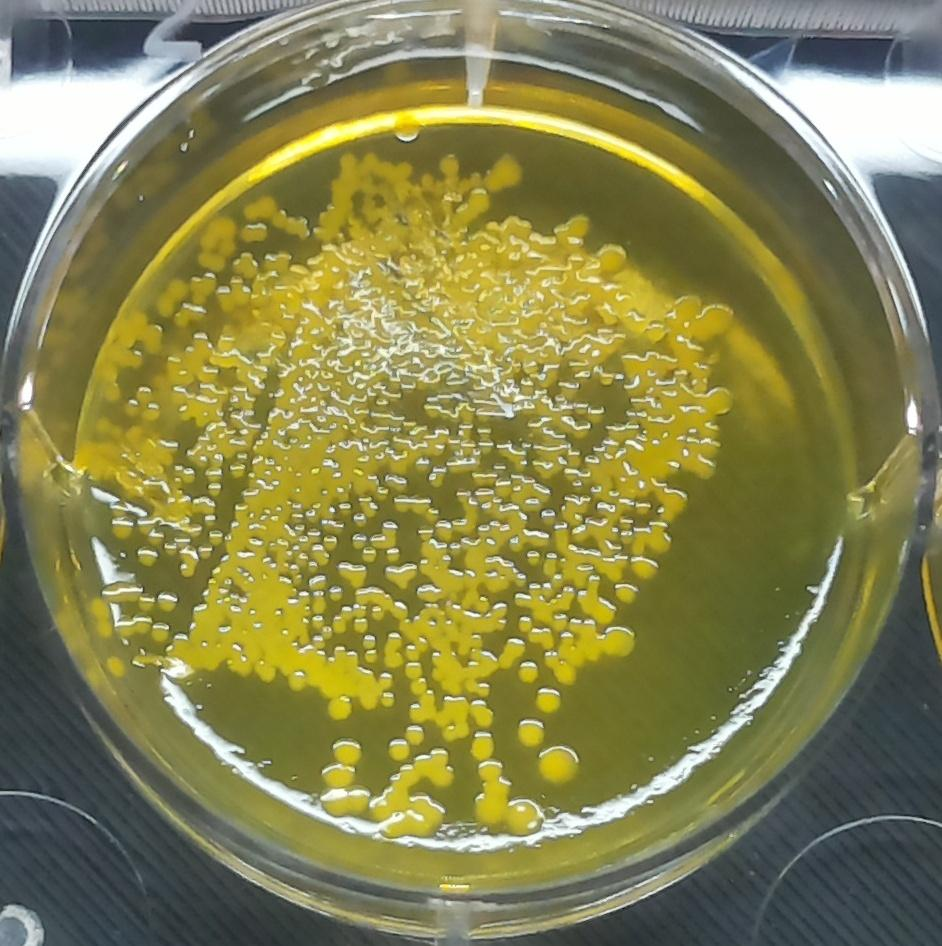vharveyi: (535, 738, 587, 792), (482, 149, 532, 194), (511, 709, 549, 754), (122, 382, 163, 423), (241, 189, 278, 224), (328, 735, 366, 768), (184, 269, 219, 304), (325, 690, 357, 724), (235, 221, 269, 245), (385, 733, 413, 762), (153, 585, 180, 614), (406, 723, 428, 747)
